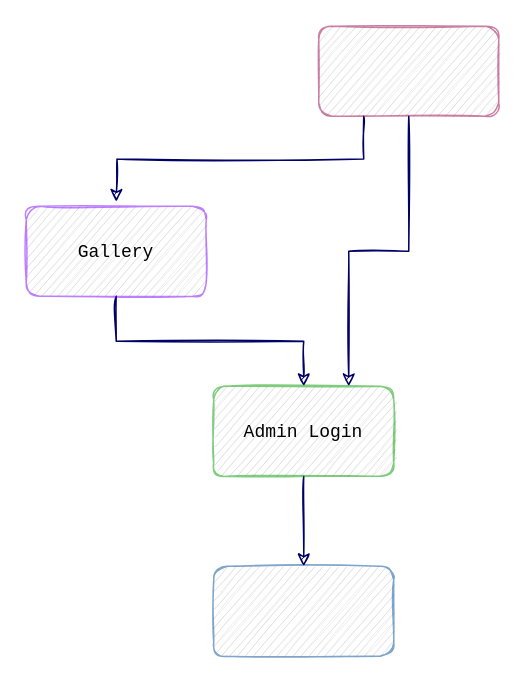
Image size: 525x683. Some labels were removed from this diagram. Here are the shapes that lost their labels. From the top down, the centre of each, then its label:
At point 408,70: "Base Page".
At point 303,610: "Admin portal".
